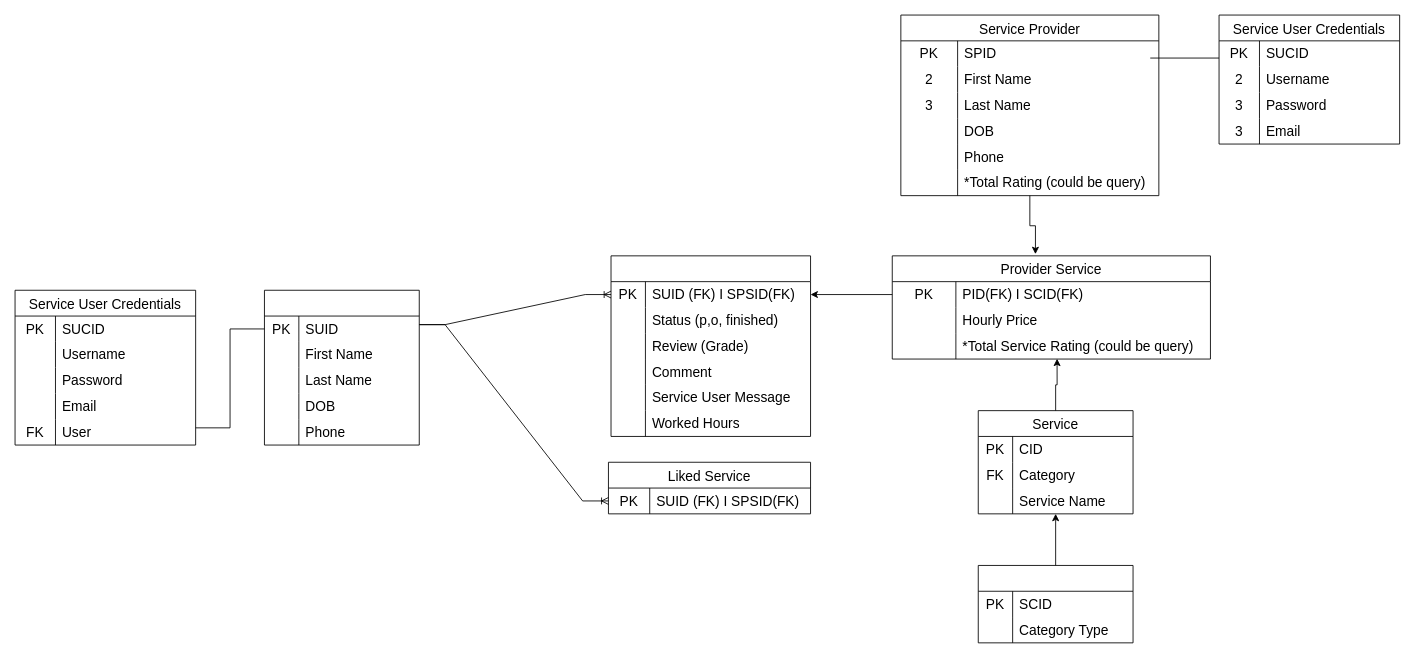
Image size: 1415x658. Some labels were removed from this diagram. Each missing label, with the box of its shape:
Categories: (977, 565, 1133, 643)
Collaboration: (610, 255, 811, 436)
Service User: (264, 289, 419, 445)
